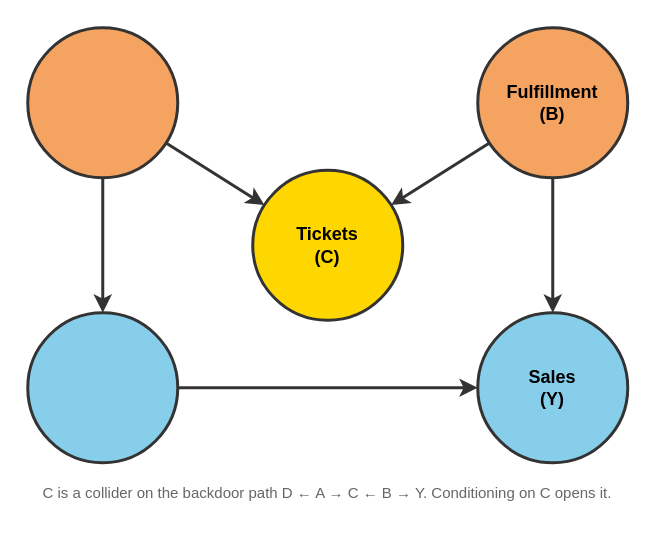
Some shapes in this 654 by 533 pixel diagram are drawn without their labels. The centre of each missing label's shape, as x and y in pixels:
"Engagement (A)" goes at point (102, 102).
"Optimization (D)" goes at point (102, 387).
